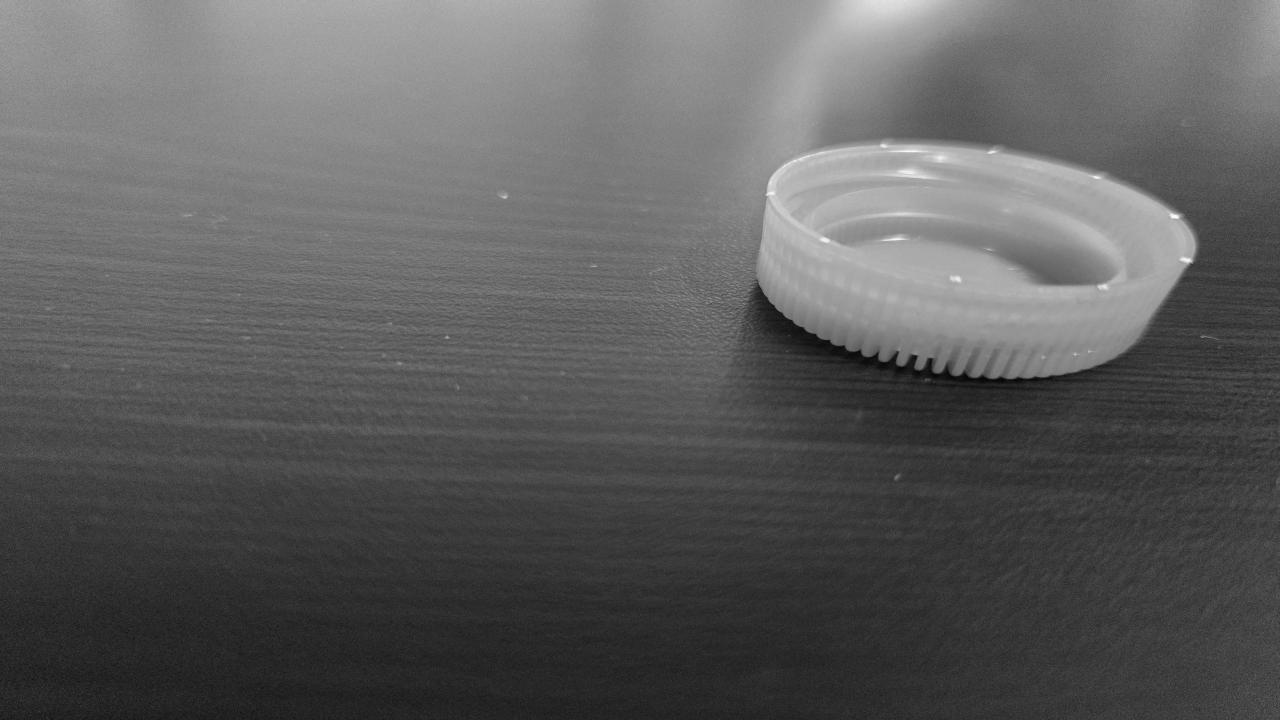bottle_cap: (766, 142, 1196, 370)
